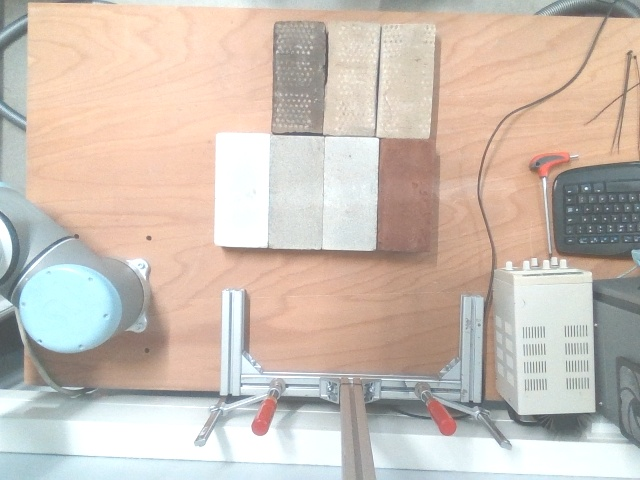brick: (268, 134, 326, 249), (377, 25, 436, 138), (324, 23, 381, 136), (323, 138, 380, 249), (214, 133, 270, 245), (273, 21, 326, 132), (378, 140, 431, 249)
